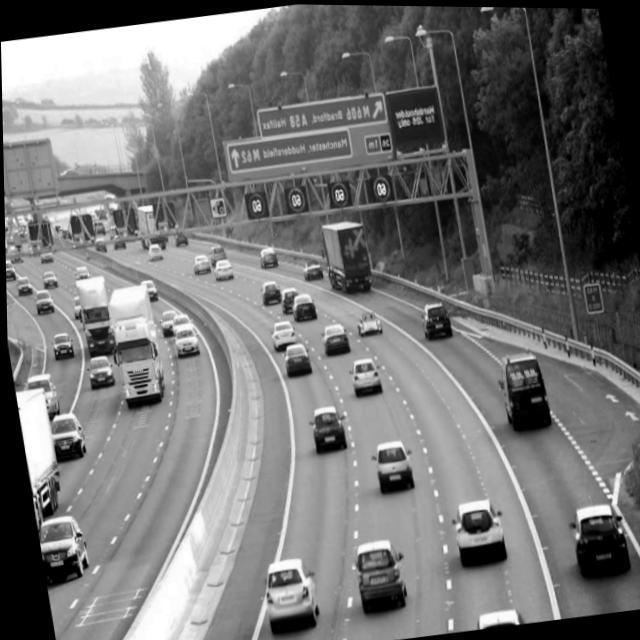cleat: (1, 3, 640, 640)
